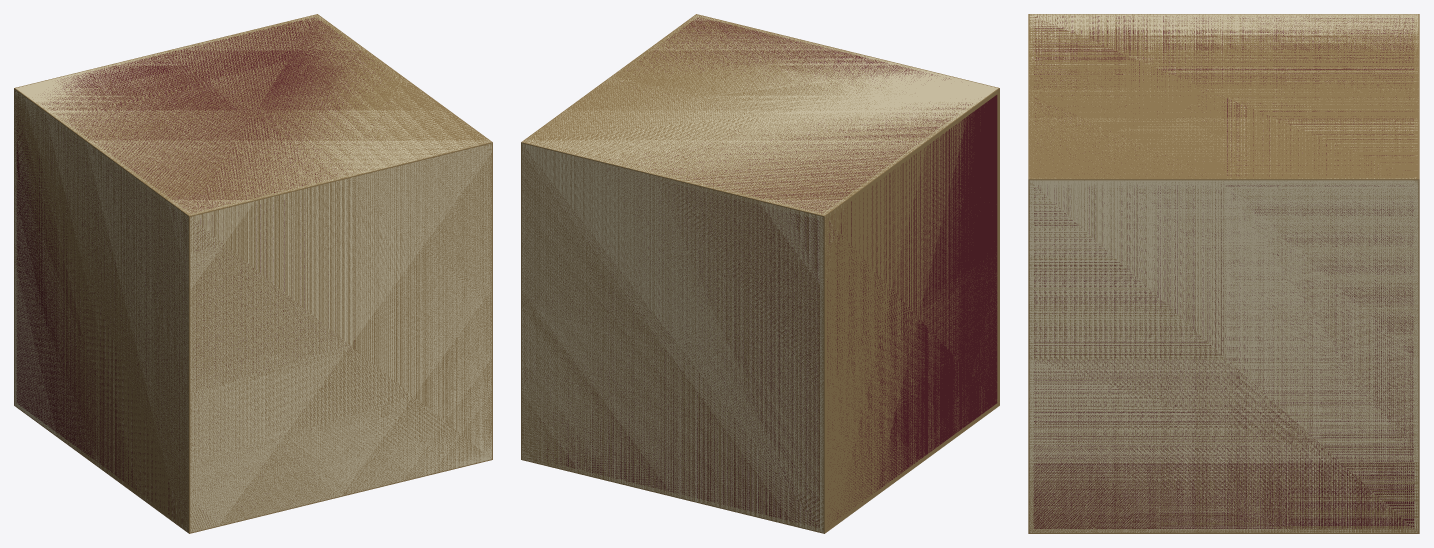
File: Book_Variant_08.fbx
3 views of the same model, side by side, from view 1: azimuth 30°, elevation 25°; view 2: azimuth 150°, elevation 25°; view 3: azimuth 270°, elevation 25° (orthographic). The views are drawn at different scales.
Parts seen in each view (by area): view 1: Gilded title line.258, Book pages.125, Raised spine band.408, Rounded book spine.125; view 2: Book pages.125, Gilded title line.258, Raised spine band.408, Rounded book spine.125; view 3: Book pages.125, Gilded title line.258, Rounded book spine.125, Raised spine band.408.
Part boxes in pixels (left/top/right/bottom): Gilded title line.258: left=14, top=14, right=492, bottom=533; Book pages.125: left=14, top=15, right=491, bottom=532; Raised spine band.408: left=14, top=15, right=492, bottom=532; Rounded book spine.125: left=16, top=17, right=395, bottom=526; Book pages.125: left=522, top=15, right=997, bottom=532; Gilded title line.258: left=521, top=14, right=999, bottom=533; Raised spine band.408: left=521, top=15, right=999, bottom=532; Rounded book spine.125: left=525, top=17, right=997, bottom=527; Book pages.125: left=1029, top=14, right=1418, bottom=532; Gilded title line.258: left=1028, top=14, right=1419, bottom=533; Rounded book spine.125: left=1033, top=16, right=1414, bottom=528; Raised spine band.408: left=1029, top=14, right=1418, bottom=469.
Bounding box in the file's own units: 1 × 1 × 1.
